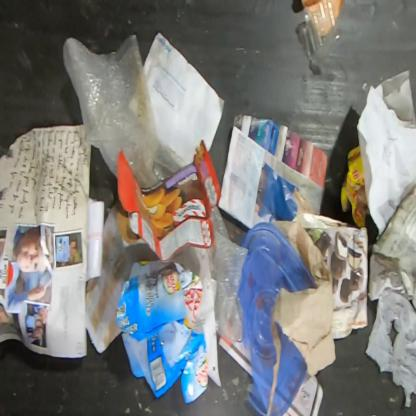cardboard: (114, 136, 222, 262), (115, 261, 209, 404), (218, 115, 328, 228), (291, 212, 368, 340)
rigid_plastic: (238, 223, 320, 416), (302, 0, 342, 74)
soft_plastic: (62, 34, 193, 193), (210, 206, 247, 343)
